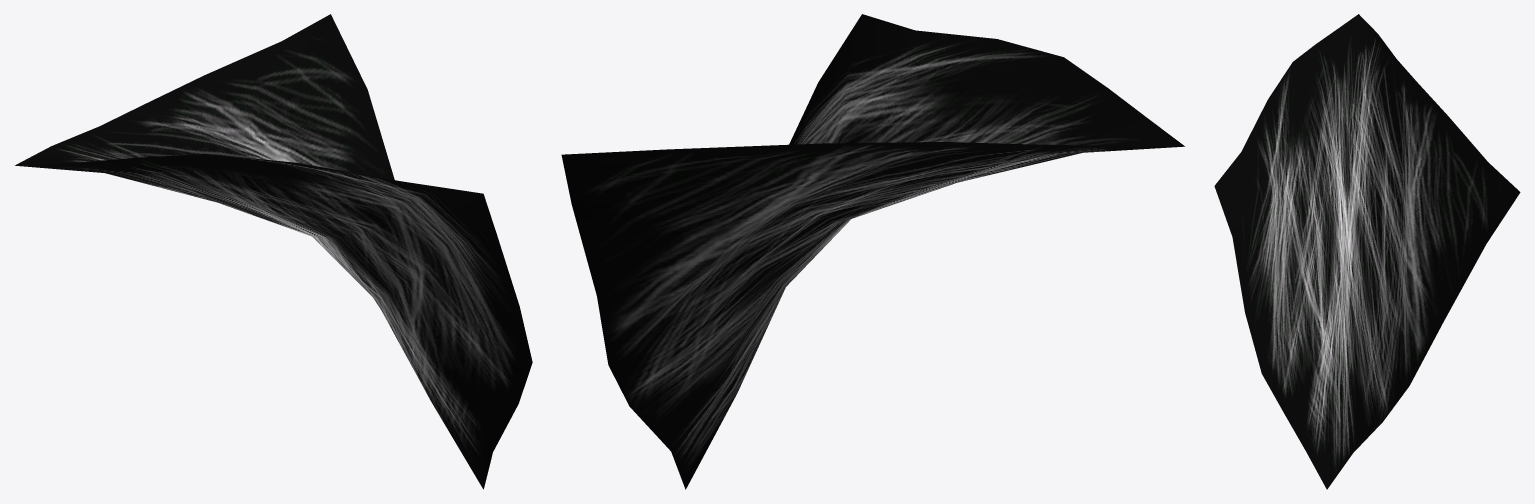
The model's file is SWORDLIGHT20_PS-AREA01_CORNERWEB18.fbx.
3 views of the same model, side by side, from view 1: azimuth 30°, elevation 25°; view 2: azimuth 150°, elevation 25°; view 3: azimuth 270°, elevation 25° (orthographic). The views are drawn at different scales.
Parts seen in each view (by area): view 1: SWORDLIGHT20_PS-AREA01_CORNERWEB18; view 2: SWORDLIGHT20_PS-AREA01_CORNERWEB18; view 3: SWORDLIGHT20_PS-AREA01_CORNERWEB18.
Part boxes in pixels (x1,y1,x2,y2): SWORDLIGHT20_PS-AREA01_CORNERWEB18: (15, 14, 532, 489); SWORDLIGHT20_PS-AREA01_CORNERWEB18: (561, 14, 1184, 489); SWORDLIGHT20_PS-AREA01_CORNERWEB18: (1214, 14, 1520, 489).
Bounding box in the file's own units: 69883 × 62001 × 54019.
Materials: 1 (1 with a texture image).
